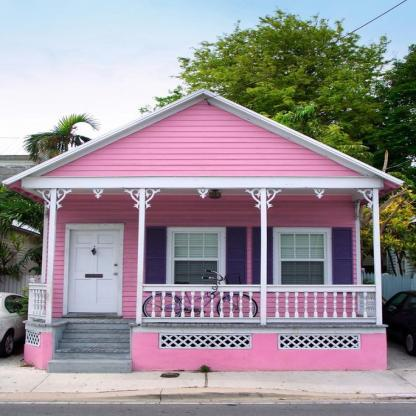Blind: (145, 226, 167, 292), (225, 226, 246, 293), (252, 226, 273, 293), (332, 227, 353, 292)
Building Outline: (0, 88, 406, 373)
Door: (67, 230, 119, 315)
Facade: (45, 161, 359, 372)
Ground Floor: (39, 194, 361, 319)
Window: (172, 231, 220, 284), (280, 232, 326, 284)
